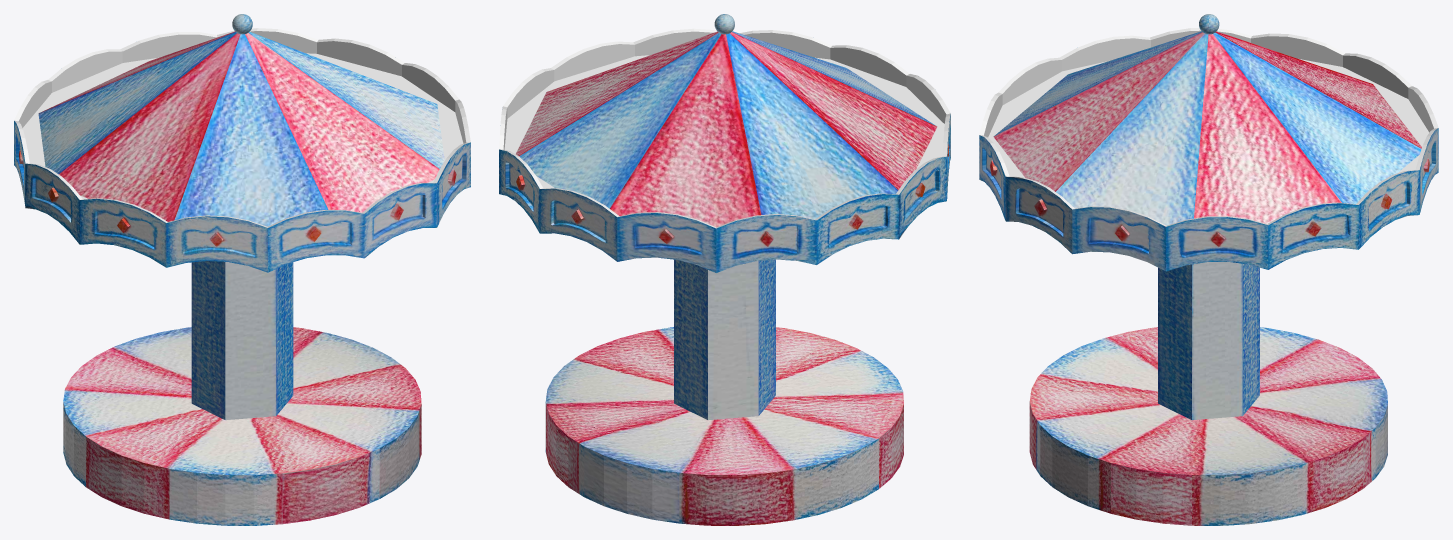
The model's file is carousel-2.glb.
The picture shows the model from 3 angles, left to right: view 1: azimuth 30°, elevation 25°; view 2: azimuth 150°, elevation 25°; view 3: azimuth 270°, elevation 25°; orthographic projection.
Visible parts, largest first — view 1: carousel-v4; view 2: carousel-v4; view 3: carousel-v4.
Boxes of the visible parts, <box> form: carousel-v4: <box>14,28,470,525</box>; carousel-v4: <box>499,28,950,525</box>; carousel-v4: <box>979,28,1438,525</box>.
Size of the model in its own units: 6.04 by 6.43 by 6.15.
2 materials, 2 textured.
